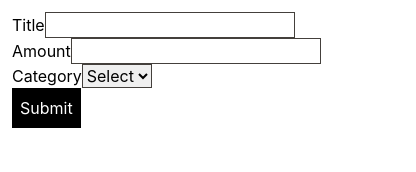
Type inputs › Show input error message
Type "5" into the number field named "amount" at point(196, 51), box [71, 38, 321, 64]
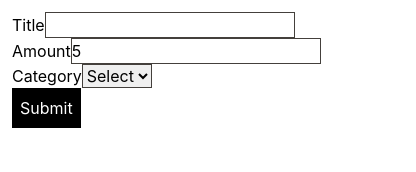
Select "Red" in the dropdown named "category" at point(117, 76), box [82, 64, 152, 88]
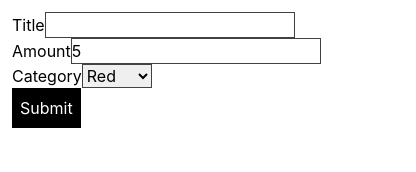
Click the button at point(46, 108), box [12, 88, 81, 128]
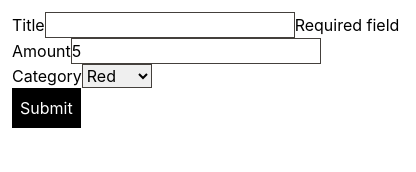
expect the text "Title Required field" is shown: met, box [12, 12, 399, 38]
